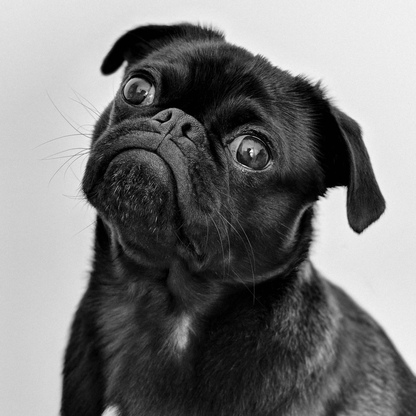Pug: (50, 17, 416, 416)
